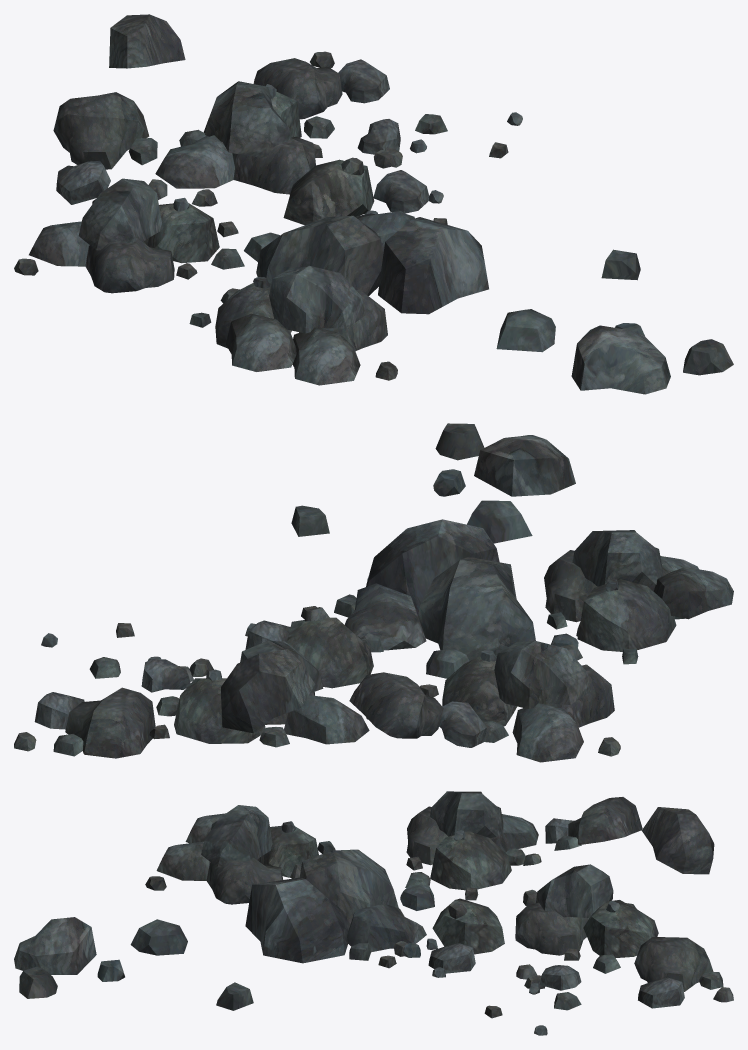
File: object_rubble20.fbx
3 renders of one model, top to bottom at view 1: azimuth 30°, elevation 25°; view 2: azimuth 150°, elevation 25°; view 3: azimuth 270°, elevation 25°, orthographic. The views are drawn at different scales.
Visible parts, largest first — view 1: Material_#238683587/cliffside; view 2: Material_#238683587/cliffside; view 3: Material_#238683587/cliffside.
Boxes of the visible parts, bbox=[...] form: Material_#238683587/cliffside: bbox=[14, 14, 733, 394]; Material_#238683587/cliffside: bbox=[14, 423, 733, 762]; Material_#238683587/cliffside: bbox=[14, 791, 733, 1035].
Size of the model in its own units: 8.62 by 1.99 by 11.86.
